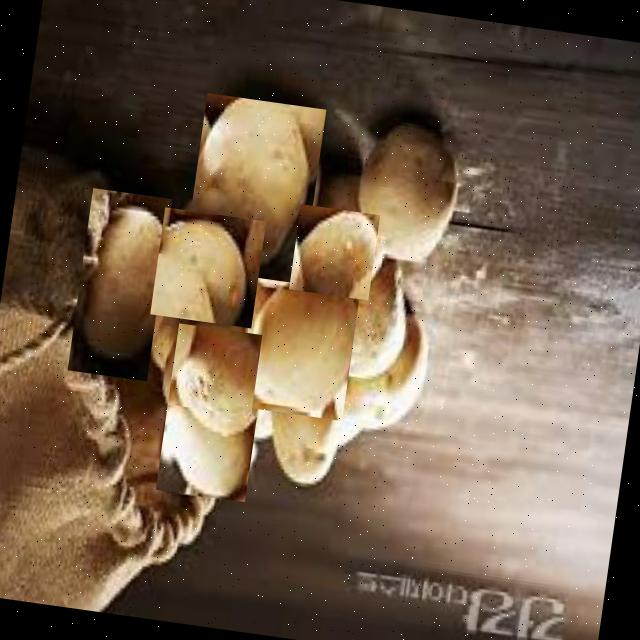Potato: (182, 92, 326, 283), (237, 233, 366, 420), (66, 187, 172, 380), (348, 111, 464, 272), (318, 318, 450, 442), (306, 256, 424, 378), (150, 206, 266, 328), (165, 322, 262, 435), (155, 404, 256, 502), (288, 203, 379, 299), (264, 397, 344, 488)
